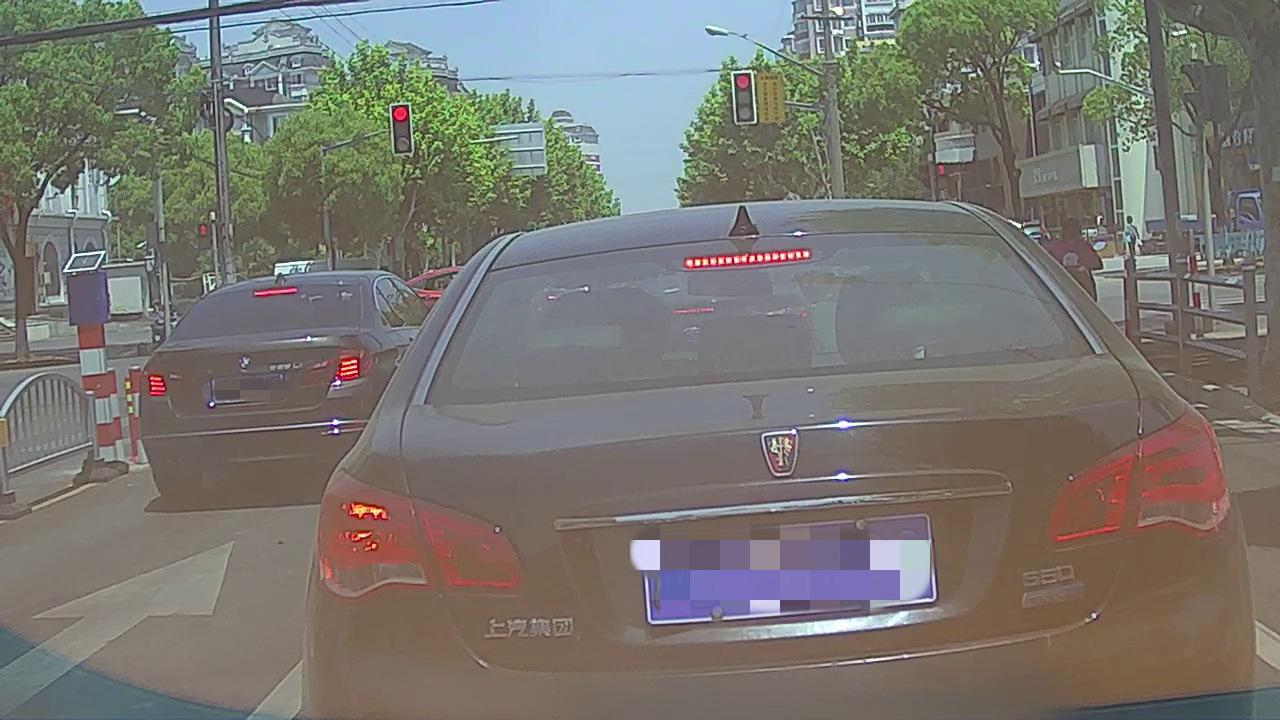traffic_light: (391, 104, 413, 156), (735, 73, 755, 122)
